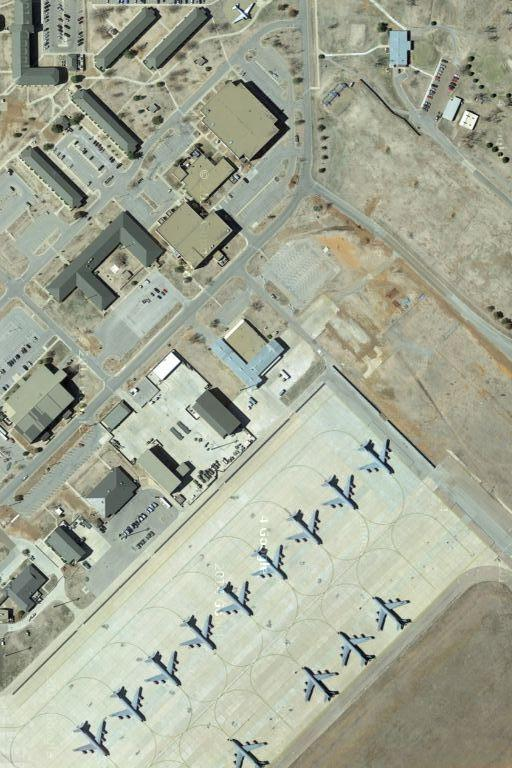KC-135: (297, 661, 341, 707), (69, 718, 114, 761), (355, 435, 398, 479), (333, 627, 376, 671), (283, 506, 324, 551), (106, 683, 146, 727), (249, 542, 290, 584), (214, 579, 255, 621), (320, 472, 360, 514), (178, 612, 217, 655), (143, 649, 182, 691), (369, 594, 412, 632), (226, 734, 274, 768)
